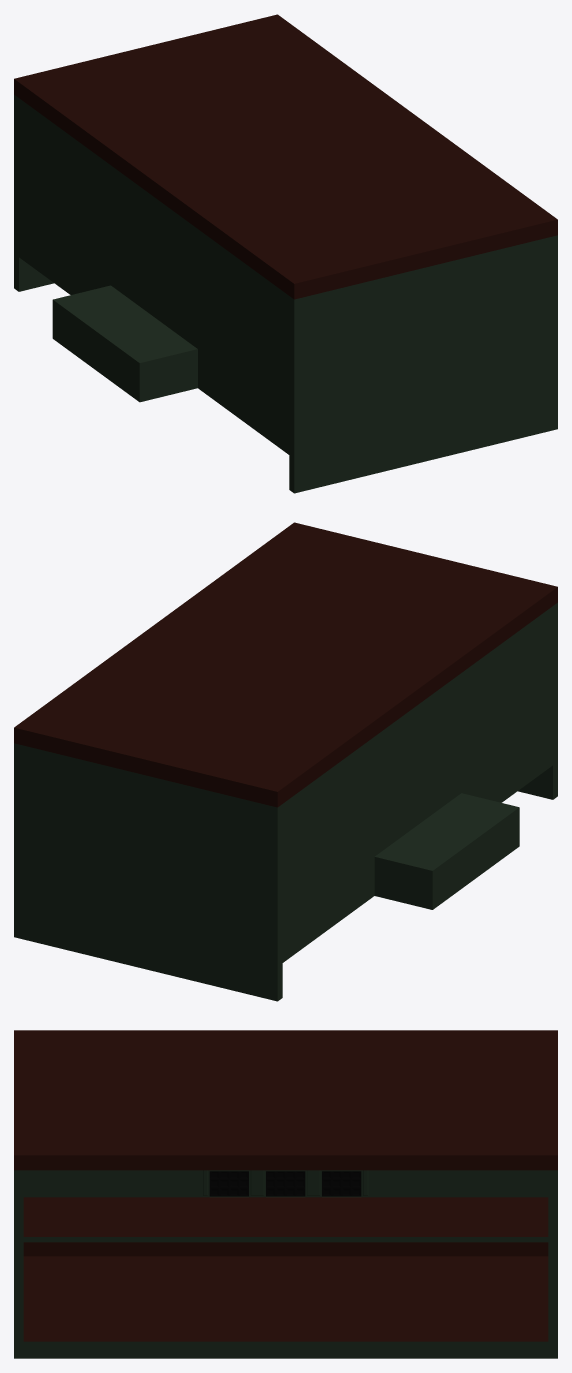
File: montehallscene.glb
3 views of the same model, one above another, from view 1: azimuth 30°, elevation 25°; view 2: azimuth 150°, elevation 25°; view 3: azimuth 270°, elevation 25° (orthographic). The views are drawn at different scales.
Parts seen in each view (by area): view 1: Stage2; view 2: Stage2; view 3: Stage2, SlidingDoor1, SlidingDoor2, SlidingDoor3.
Part boxes in pixels (x1,y1,x2,y2): Stage2: (14,14,557,493); Stage2: (14,522,557,1001); Stage2: (14,1030,557,1358); SlidingDoor1: (209,1171,248,1196); SlidingDoor2: (266,1171,305,1196); SlidingDoor3: (322,1171,361,1196).
Bounding box in the file's own units: 64.92 × 40.4 × 97.95.
